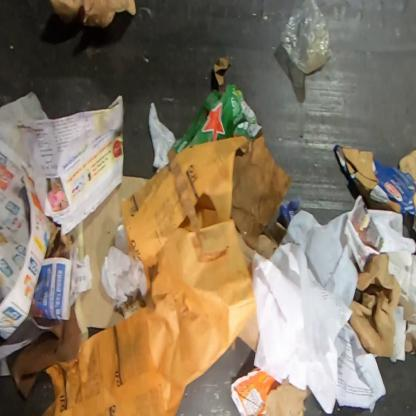cardboard: (167, 56, 293, 249), (74, 175, 150, 343), (5, 298, 82, 401), (334, 143, 415, 218), (236, 223, 286, 280), (48, 0, 137, 29), (231, 310, 260, 352), (398, 148, 416, 184), (411, 216, 416, 234)
rigid_plastic: (280, 0, 333, 74)
